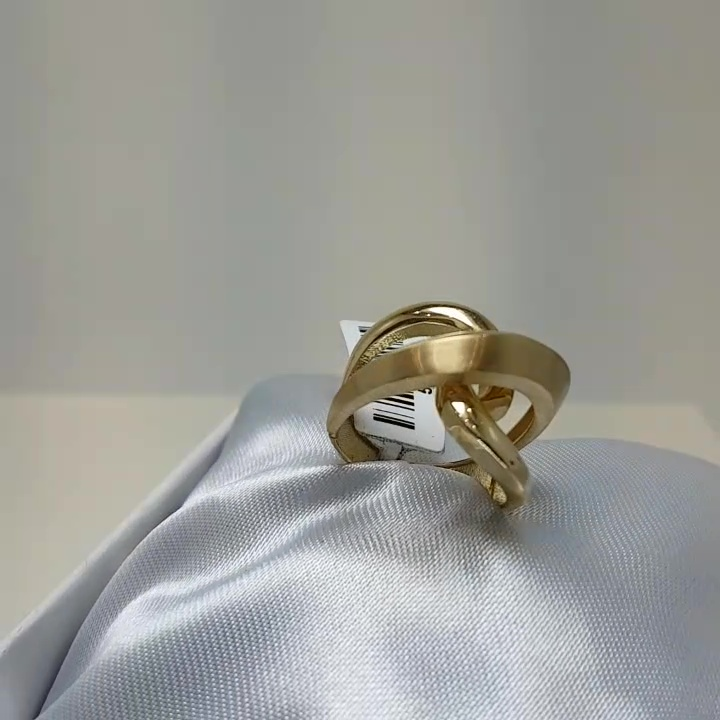Ring 3: (305, 273, 592, 527)
